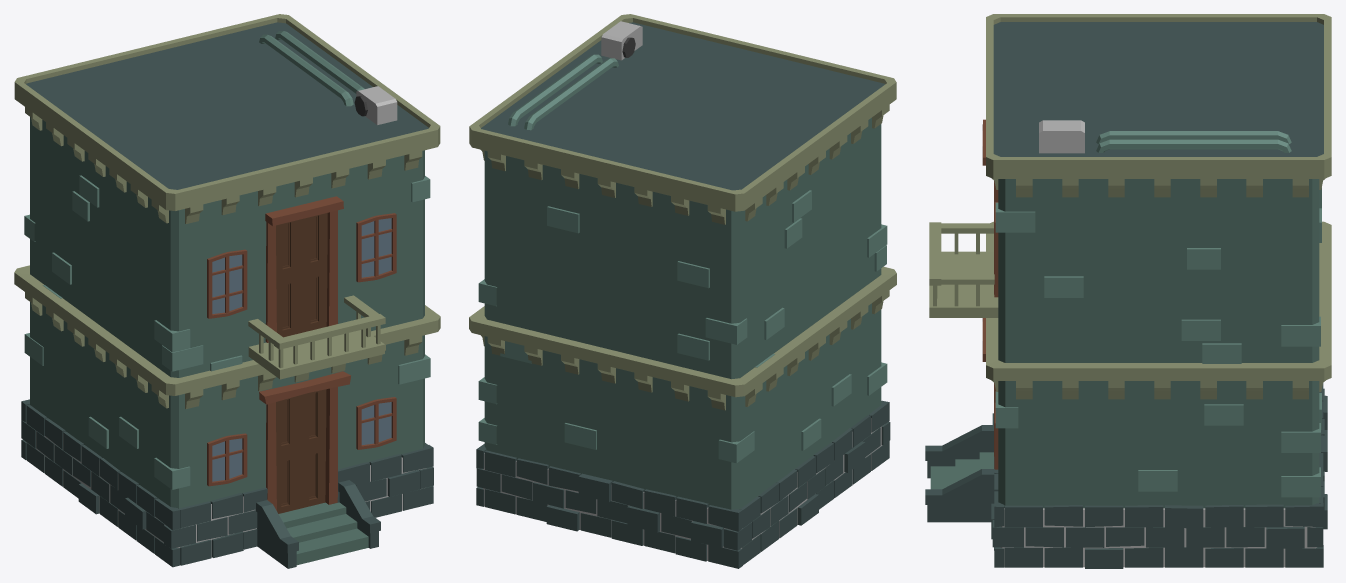
File: 2Story_Balcony_Mat.gltf
3 views of the same model, side by side, from view 1: azimuth 30°, elevation 25°; view 2: azimuth 150°, elevation 25°; view 3: azimuth 270°, elevation 25° (orthographic). The views are drawn at different scales.
Visible parts, largest first — view 1: o 2Story_Balcony_Mat_Cube.028; view 2: o 2Story_Balcony_Mat_Cube.028; view 3: o 2Story_Balcony_Mat_Cube.028.
Boxes of the visible parts, left/top/right/bottom form: o 2Story_Balcony_Mat_Cube.028: left=14, top=14, right=440, bottom=568; o 2Story_Balcony_Mat_Cube.028: left=469, top=14, right=896, bottom=568; o 2Story_Balcony_Mat_Cube.028: left=925, top=14, right=1331, bottom=568.
Bounding box in the file's own units: 2.16 × 2.94 × 2.53.
